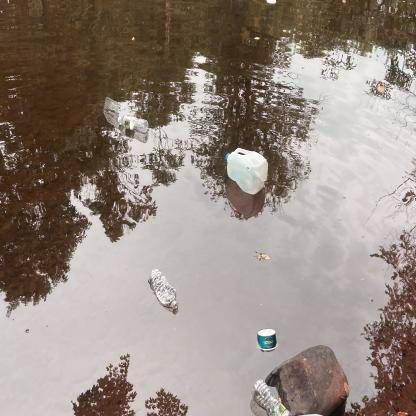Plastic: (219, 146, 272, 198), (248, 375, 296, 416), (146, 264, 180, 317), (117, 112, 152, 134), (101, 96, 125, 126)
Trash: (255, 324, 282, 358)
